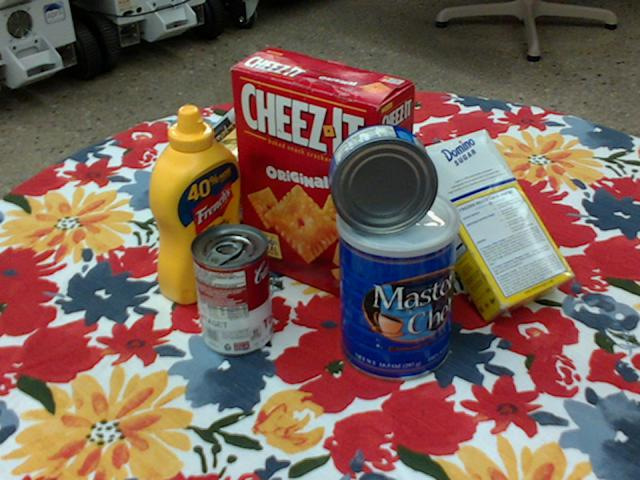cracker_box: (232, 47, 416, 306)
gelatin_box: (249, 137, 331, 207)
large_marker: (191, 93, 261, 157)
master_chef_can: (335, 187, 458, 384)
mug: (390, 143, 479, 246)
mustard_bottle: (148, 106, 245, 305)
potted_meat_can: (173, 138, 264, 248)
sugar_box: (400, 130, 576, 325)
tomato_soup_can: (189, 223, 272, 356)
tuna_fish_can: (329, 123, 439, 235)
